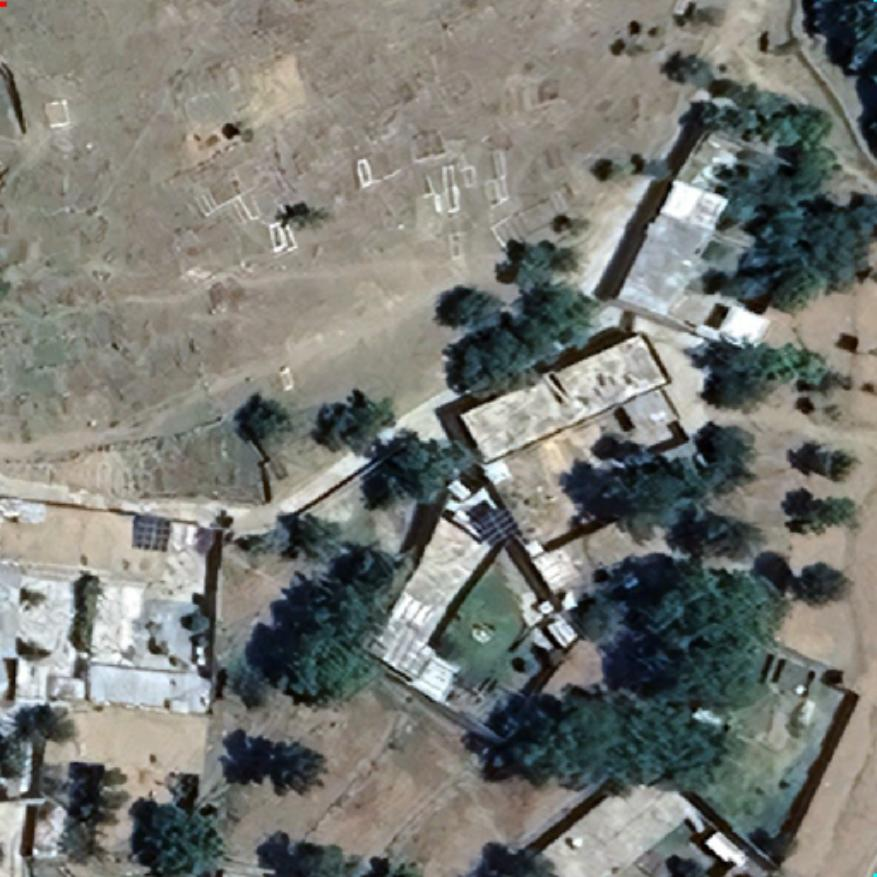Solarpanel: (469, 500, 526, 551), (130, 512, 175, 554)
